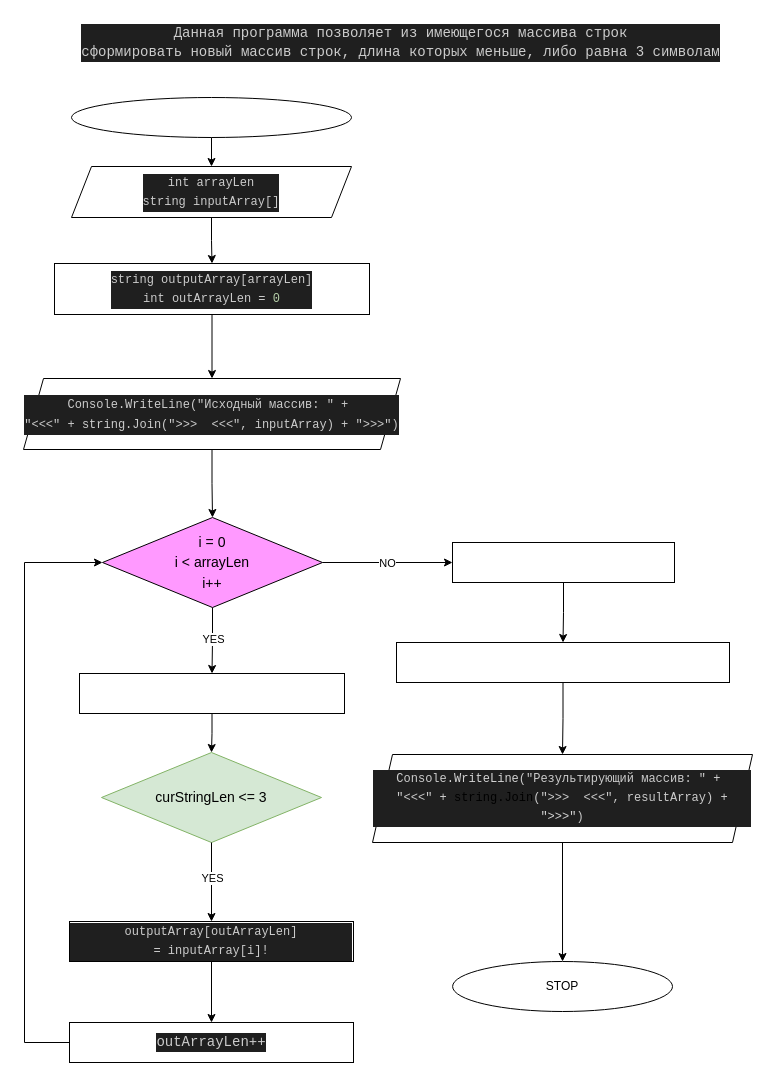
The diagram is 770 pixels wide and 1080 high, and some of its shapes have lost their labels. Here are the shapes that lost their labels. From the top down, the centre of each, then its label:
At (x=211, y=117): "START".
At (x=563, y=562): "string resultArray[outArrayLen]".
At (x=563, y=662): "Array .Copy (outputArray, resultArray, outArrayLen)".
At (x=211, y=693): "int curStringLen = inputArray[i] .Length".
